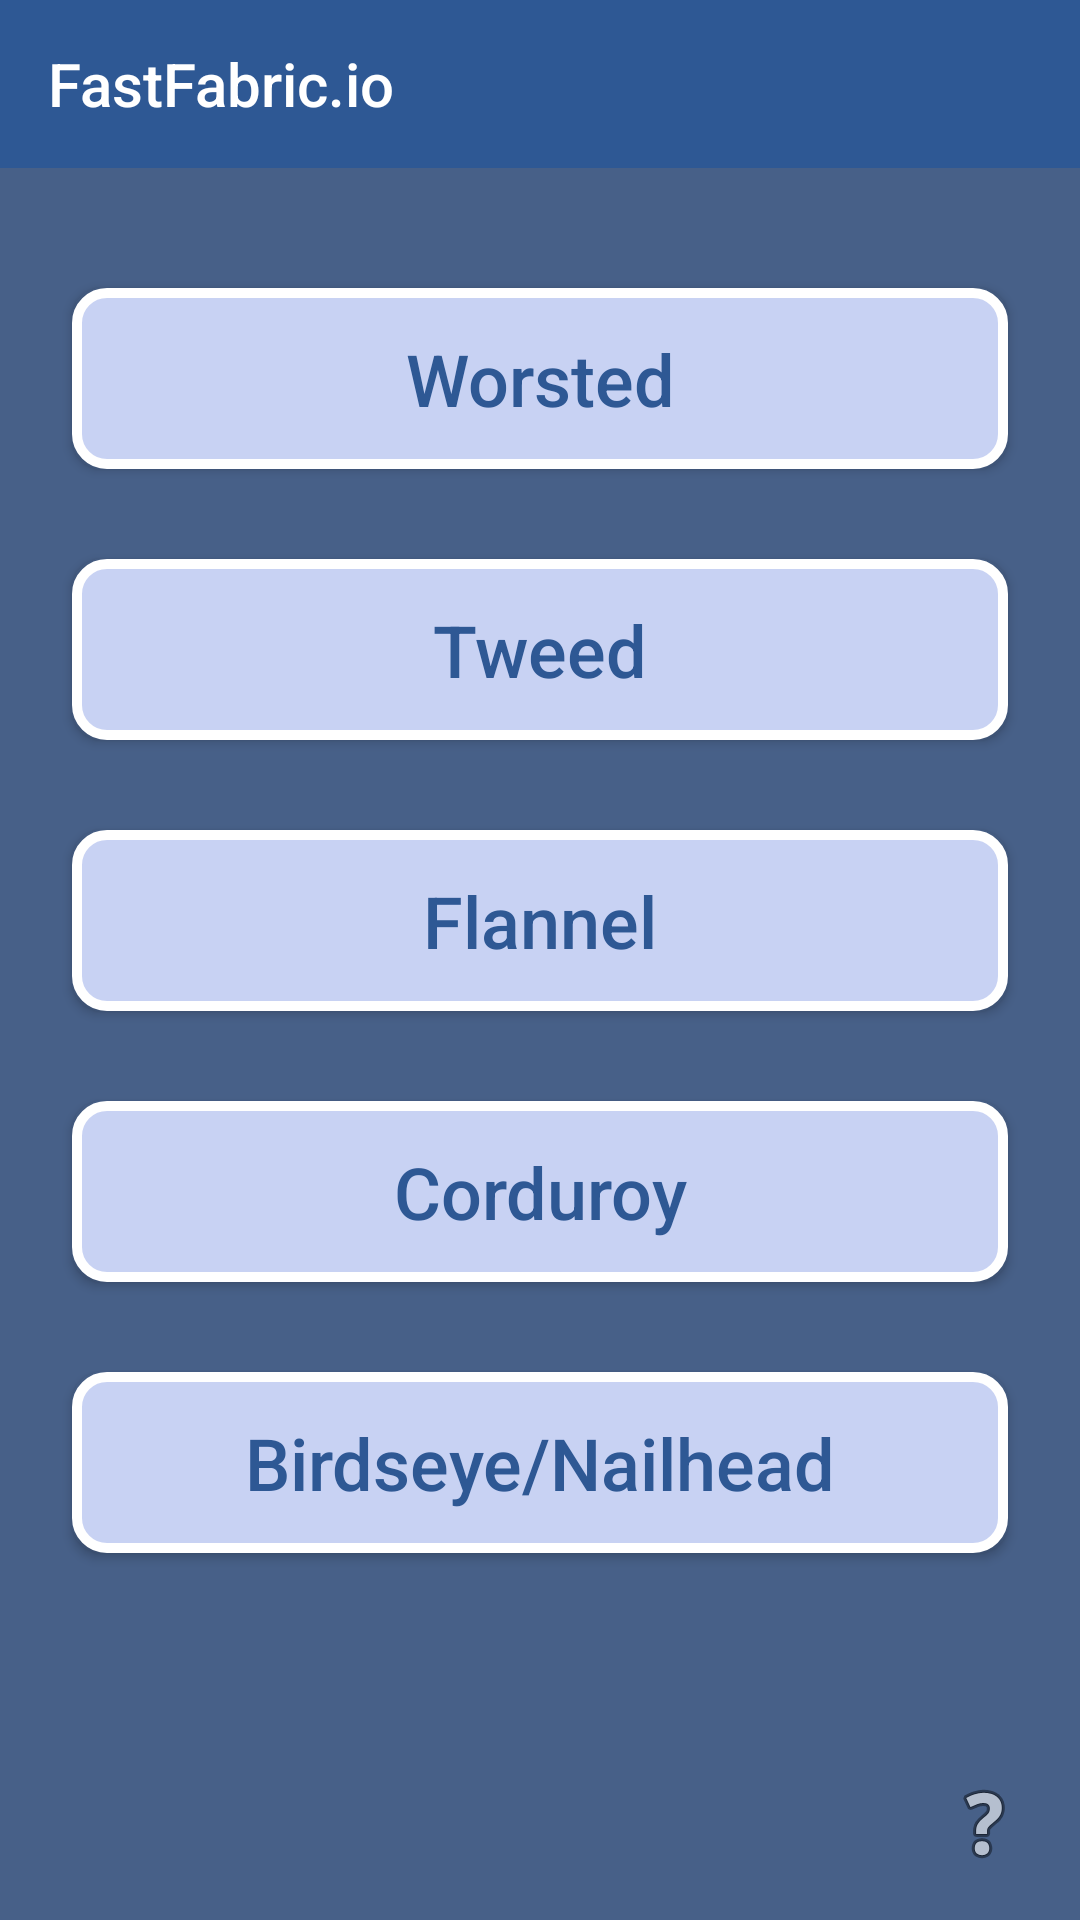

Named icons in this screenshot (1080px×1920px) and their centers, point (x, y):
help: point (984, 1824)
